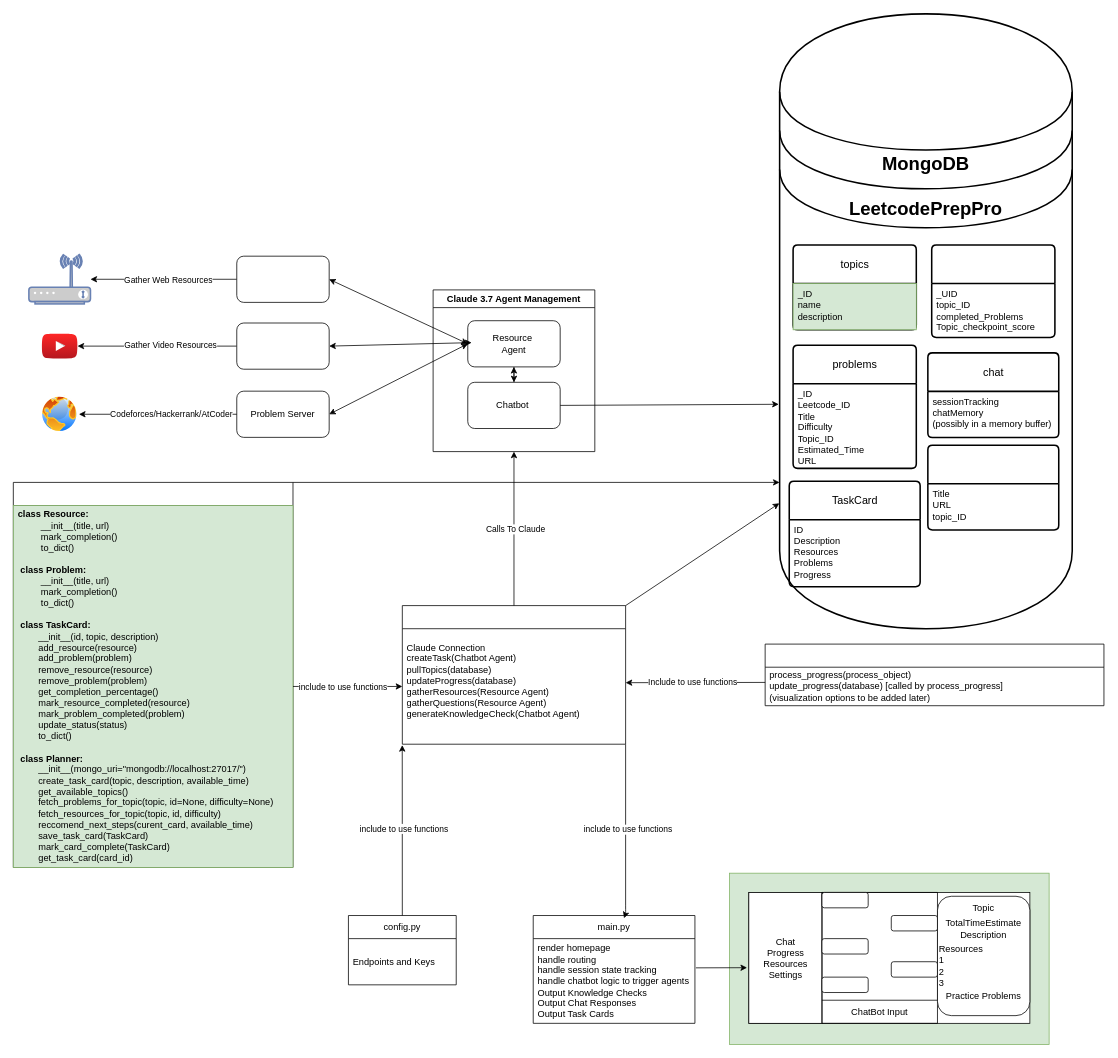
This 1118x1058 diagram has some shape labels left out. Here are the shapes that lost their labels. From the top down, the box of each, then its label:
(236, 255, 329, 302): Text Tutorial Server
(931, 244, 1055, 338): user_progress
(236, 322, 329, 369): Video Tutorial Server
(927, 444, 1059, 530): Resources
(13, 482, 293, 867): planner.py
(402, 605, 626, 744): agent.py
(764, 643, 1104, 706): progress_tracker.py
